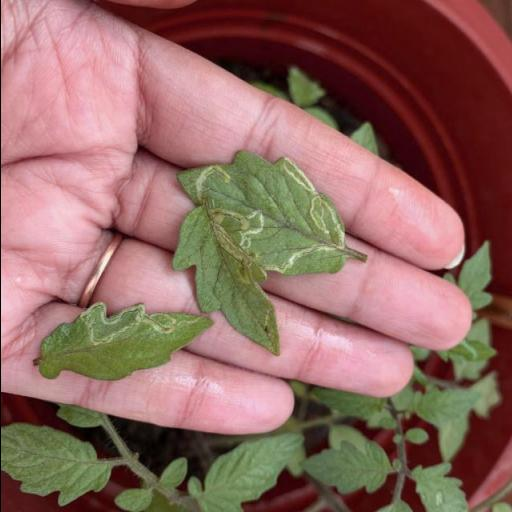disease_tomato: (174, 150, 350, 276), (36, 302, 210, 384)
